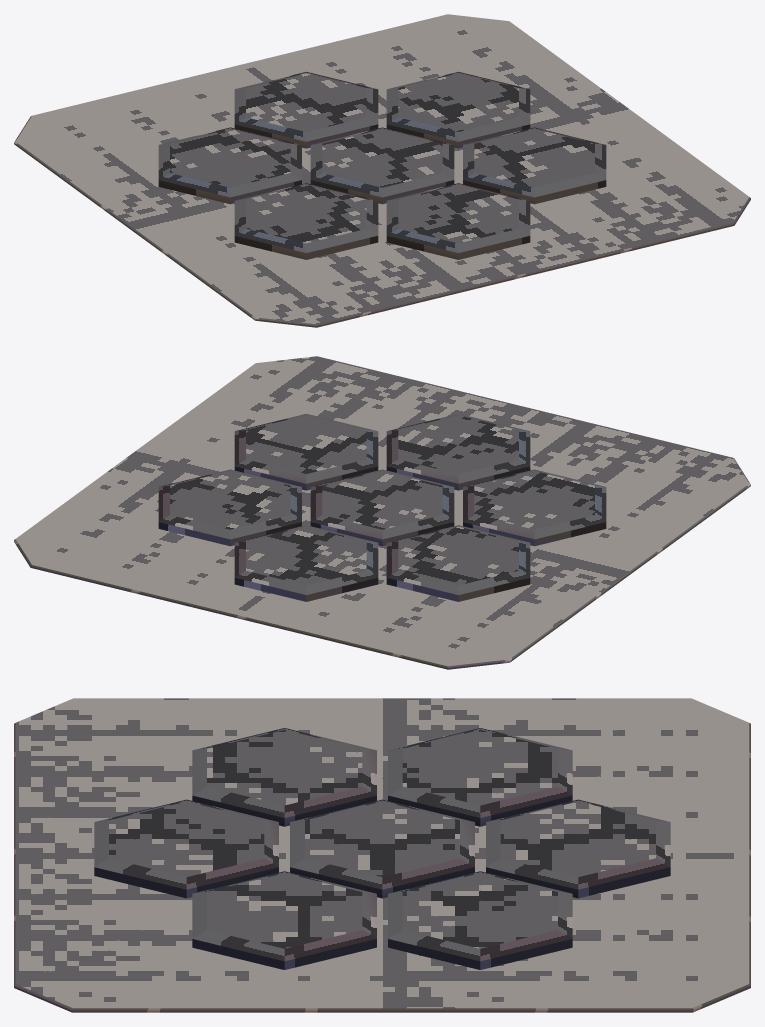
The model's file is stn.floor.glb.
3 views of the same model, one above another, from view 1: azimuth 30°, elevation 25°; view 2: azimuth 150°, elevation 25°; view 3: azimuth 270°, elevation 25° (orthographic). The views are drawn at different scales.
Parts seen in each view (by area): view 1: kit_base, kit_plates; view 2: kit_base, kit_plates; view 3: kit_base, kit_plates.
Boxes of the visible parts, x1=… form: kit_base: x1=14, y1=14, x2=750, y2=327; kit_plates: x1=158, y1=71, x2=606, y2=259; kit_base: x1=14, y1=356, x2=750, y2=669; kit_plates: x1=158, y1=413, x2=606, y2=601; kit_base: x1=14, y1=698, x2=750, y2=1012; kit_plates: x1=94, y1=728, x2=670, y2=969.
Size of the model in its own units: 3.8 by 0.1 by 3.8.
2 materials, 2 textured.
